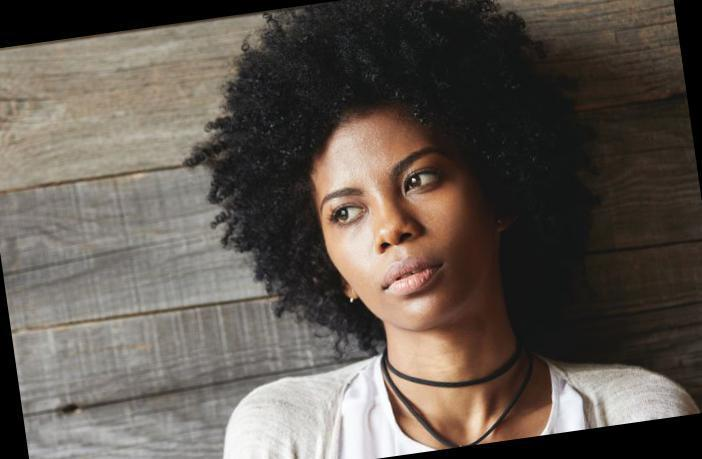Sober: (317, 139, 484, 321)
